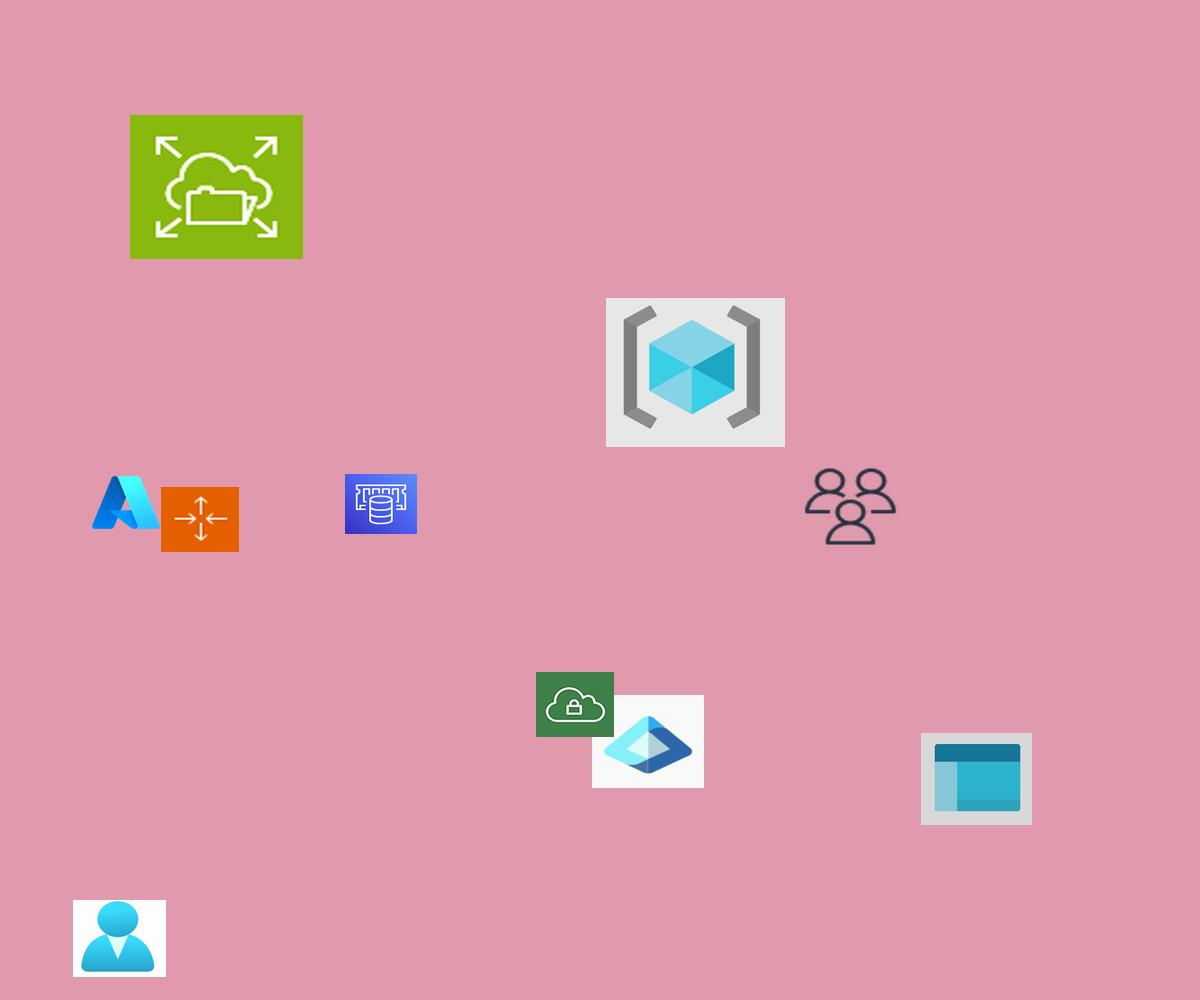AWS-EFS: (130, 115, 303, 259)
AWS-ElastiCache: (345, 474, 417, 534)
AWS-Private_vpc: (536, 672, 614, 737)
AWS-Res_Users: (801, 465, 900, 548)
AWS-Scaling-group: (161, 487, 239, 552)
Azure_management-portal: (921, 733, 1032, 825)
Azure_microsoft_entra: (592, 695, 704, 788)
Azure_resource_group: (606, 298, 785, 447)
Azure_services: (89, 472, 163, 533)
Azure_users: (73, 900, 166, 977)
